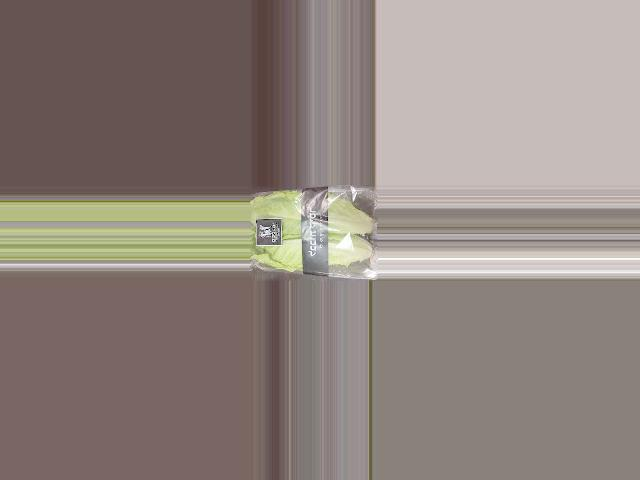lettuce: (251, 192, 378, 279)
